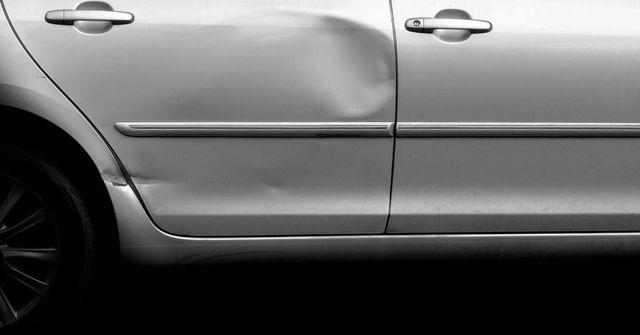dent: (288, 9, 405, 131), (95, 160, 171, 190)
